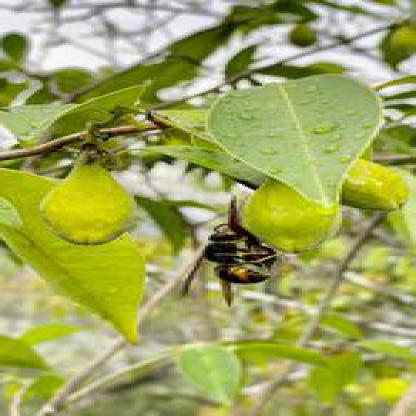Asian Hornet: (176, 197, 293, 308)
